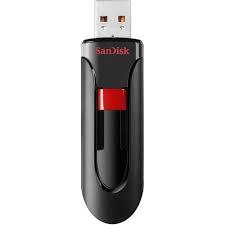Flash-drive: (80, 0, 158, 225)
